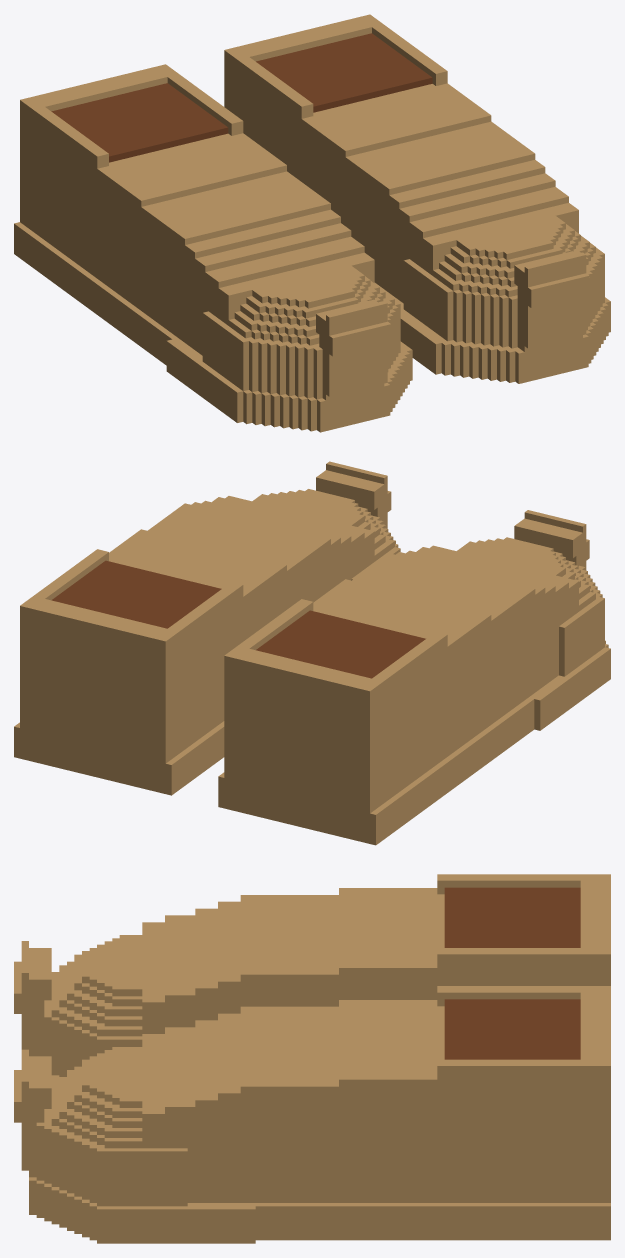
The model's file is clogs.glb.
3 views of the same model, one above another, from view 1: azimuth 30°, elevation 25°; view 2: azimuth 150°, elevation 25°; view 3: azimuth 270°, elevation 25° (orthographic). The views are drawn at different scales.
Parts seen in each view (by area): view 1: clogs:compound; view 2: clogs:compound; view 3: clogs:compound.
Boxes of the visible parts, left/top/right/bottom form: clogs:compound: left=14, top=14, right=610, bottom=432; clogs:compound: left=14, top=461, right=610, bottom=845; clogs:compound: left=14, top=874, right=610, bottom=1243.
Bounding box in the file's own units: 0.256 × 0.1 × 0.316.
